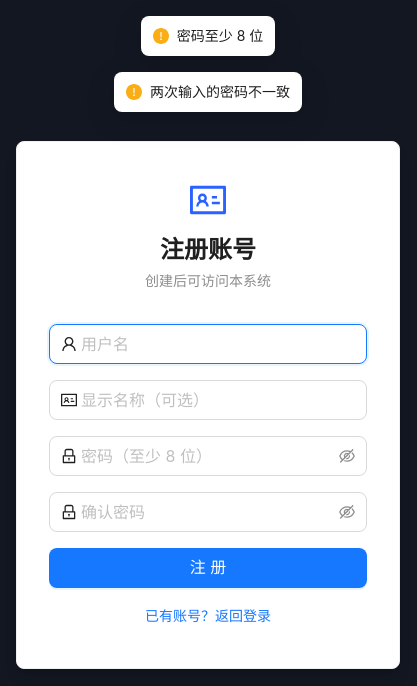
Scenario: Register 页 › 保留用户名 default 被前端拦截
The width and height of the screenshot is (417, 686).
Expected: the button with test id "register-submit" is shown, [49, 548, 367, 588]
Type "default" into the field with test id "register-username".
click(218, 344); type("default")  # box [81, 332, 355, 356]
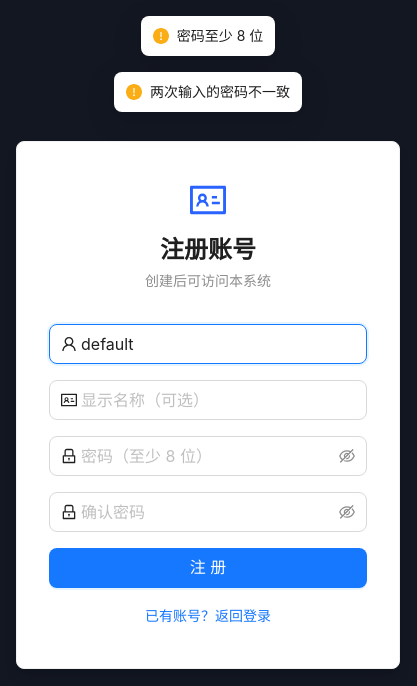
Type "password123" into the password field with test id "register-password".
click(208, 456); type("password123")  # box [81, 444, 335, 468]
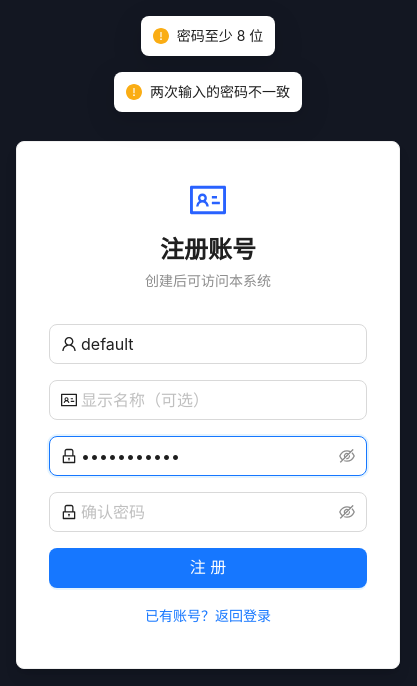
Type "password123" into the password field with test id "register-confirm".
click(208, 512); type("password123")  # box [81, 500, 335, 524]
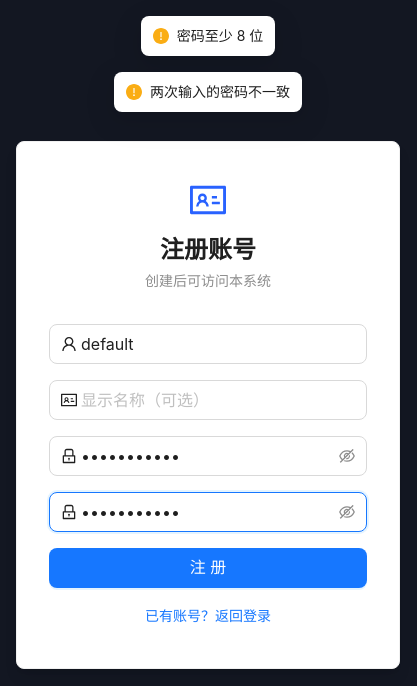
Click the button with test id "register-submit".
click(208, 568)  # box [49, 548, 367, 588]
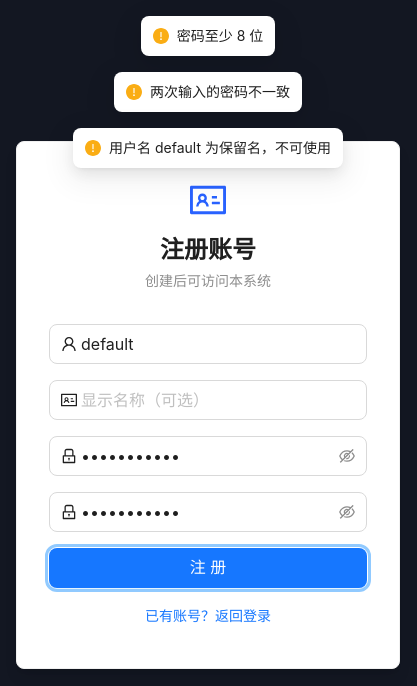
Expected: the text "用户名 default 为保留名，不可使用" is shown, [109, 137, 331, 159]
